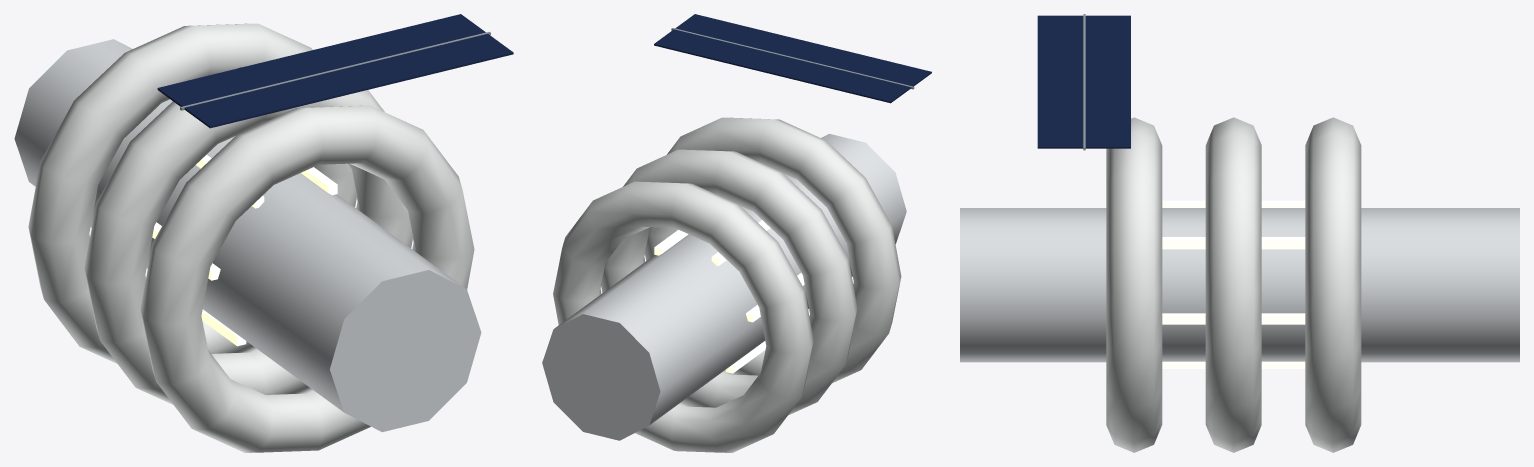
File: space_orbital_habitat_t3.glb
3 views of the same model, side by side, from view 1: azimuth 30°, elevation 25°; view 2: azimuth 150°, elevation 25°; view 3: azimuth 270°, elevation 25° (orthographic). The views are drawn at different scales.
Visible parts, largest first — view 1: body, solar_0; view 2: body, solar_0; view 3: body, solar_0.
Part boxes in pixels (box(x1,y1,x2,y2)): body: box(14, 23, 481, 452); solar_0: box(157, 14, 513, 128); body: box(542, 117, 906, 452); solar_0: box(654, 14, 931, 103); body: box(960, 117, 1519, 452); solar_0: box(1037, 14, 1130, 150).
Size of what is drawn, in the model's own units: 10.8 by 12.64 by 18.
